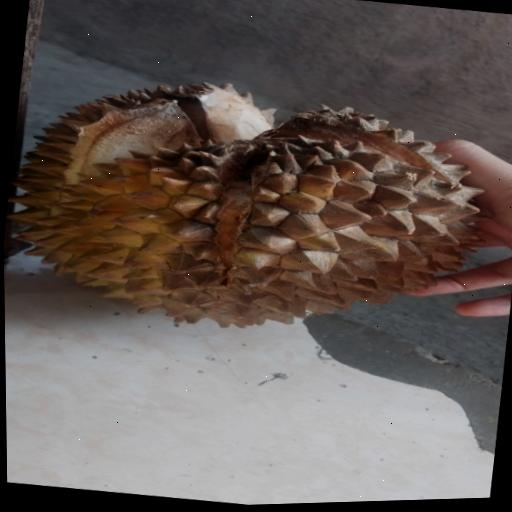rot: (1, 49, 512, 378)
